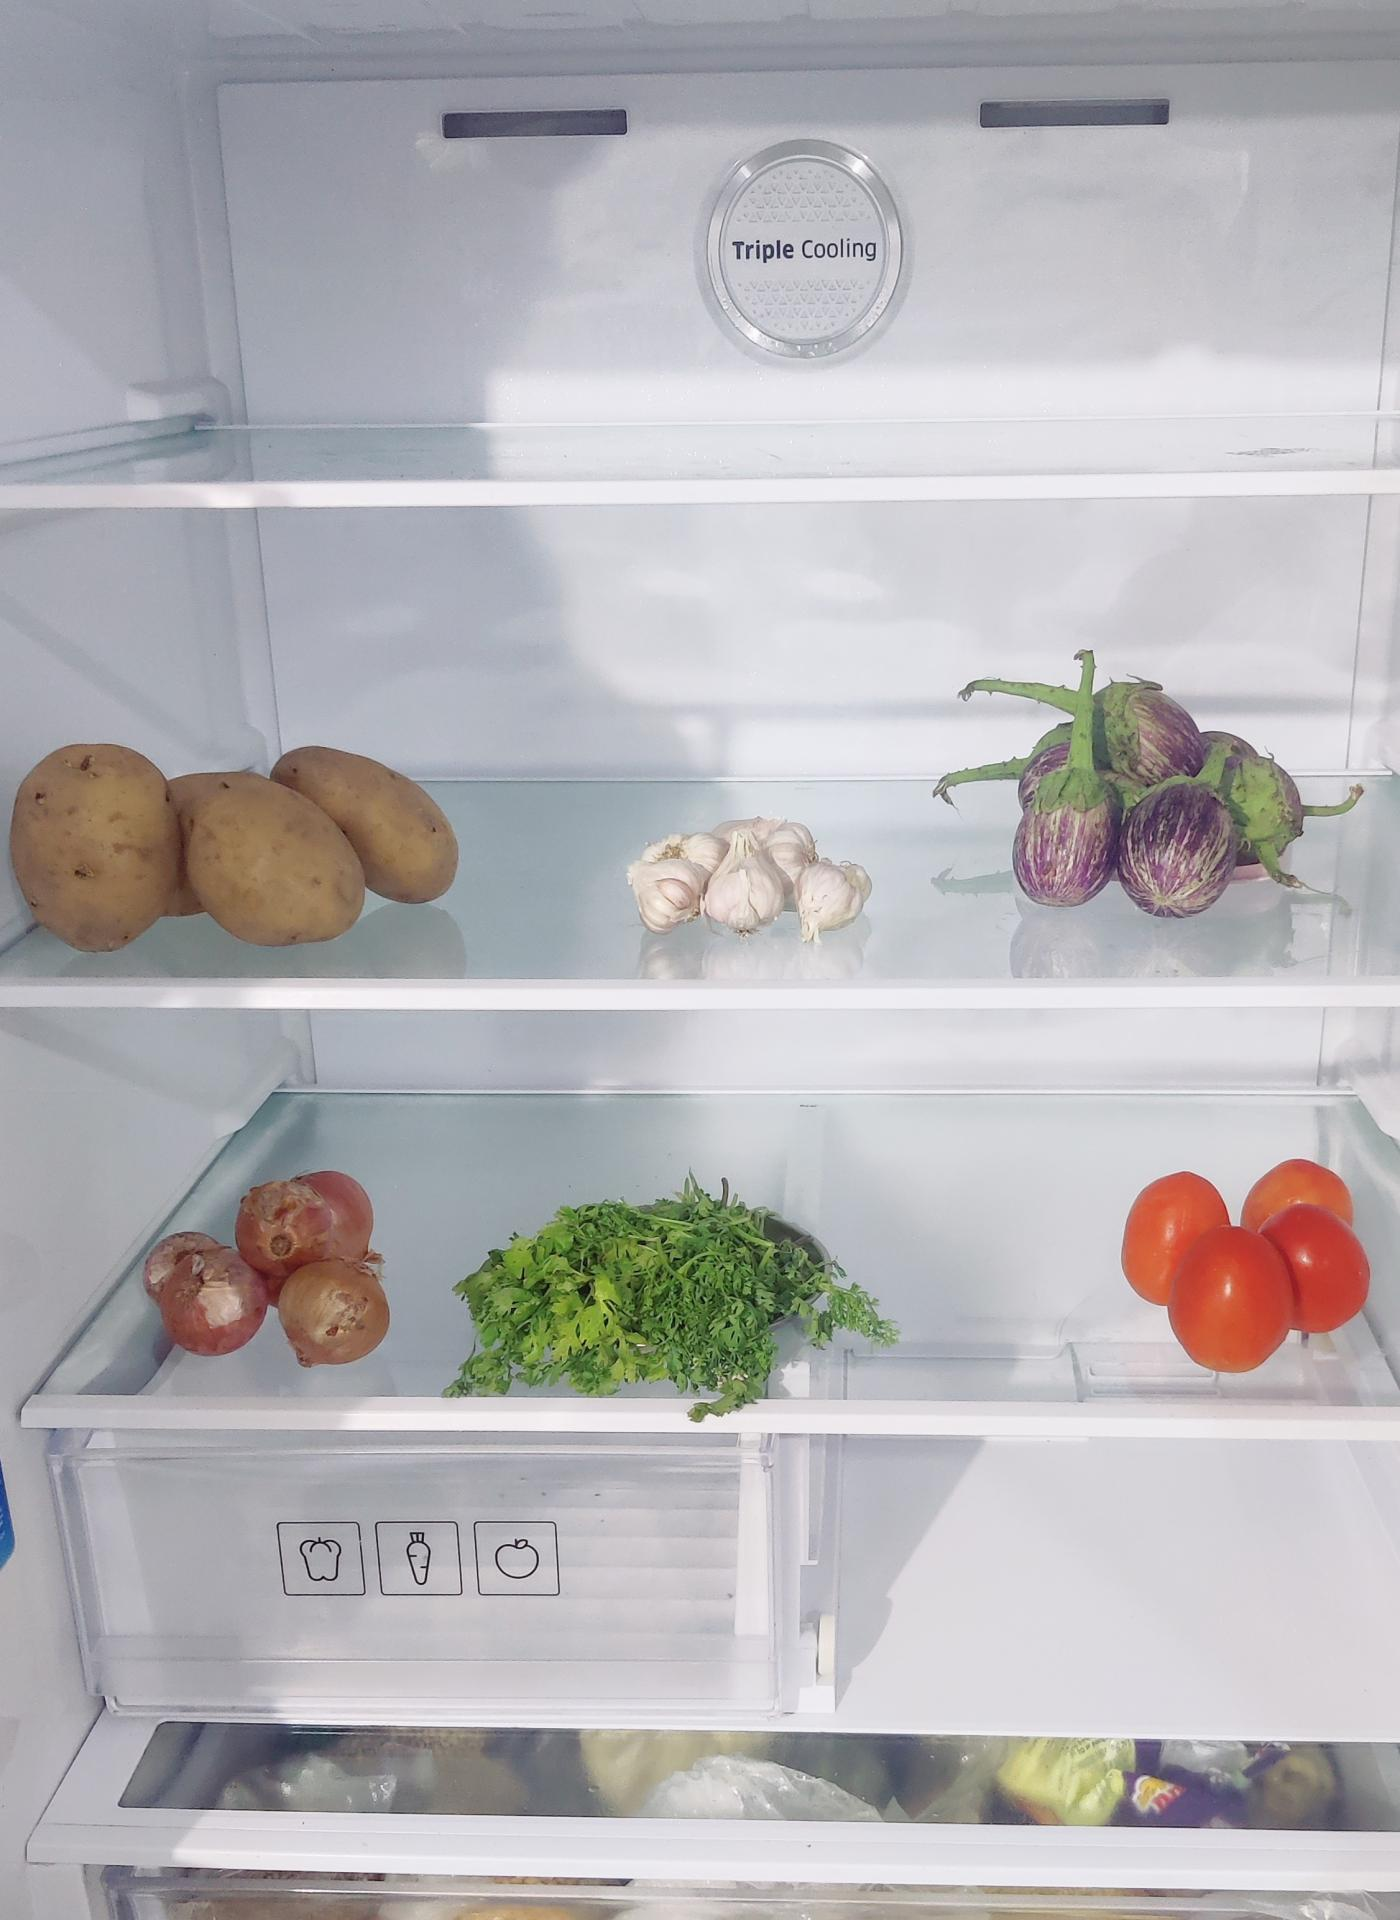brinjal: (990, 654, 1285, 921)
coriander: (447, 1184, 881, 1394)
garlic: (635, 809, 878, 938)
onion: (151, 1172, 398, 1371)
potato: (16, 739, 467, 948)
tomato: (1123, 1160, 1375, 1374)
